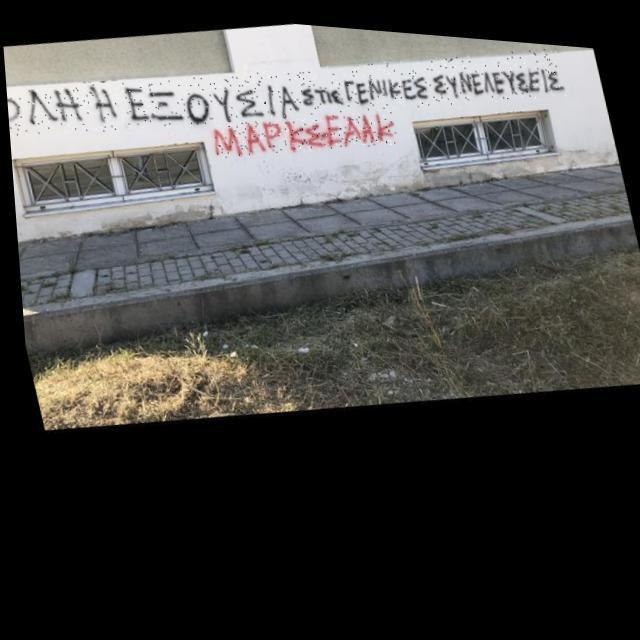-: (0, 3, 570, 177), (207, 92, 399, 166)
